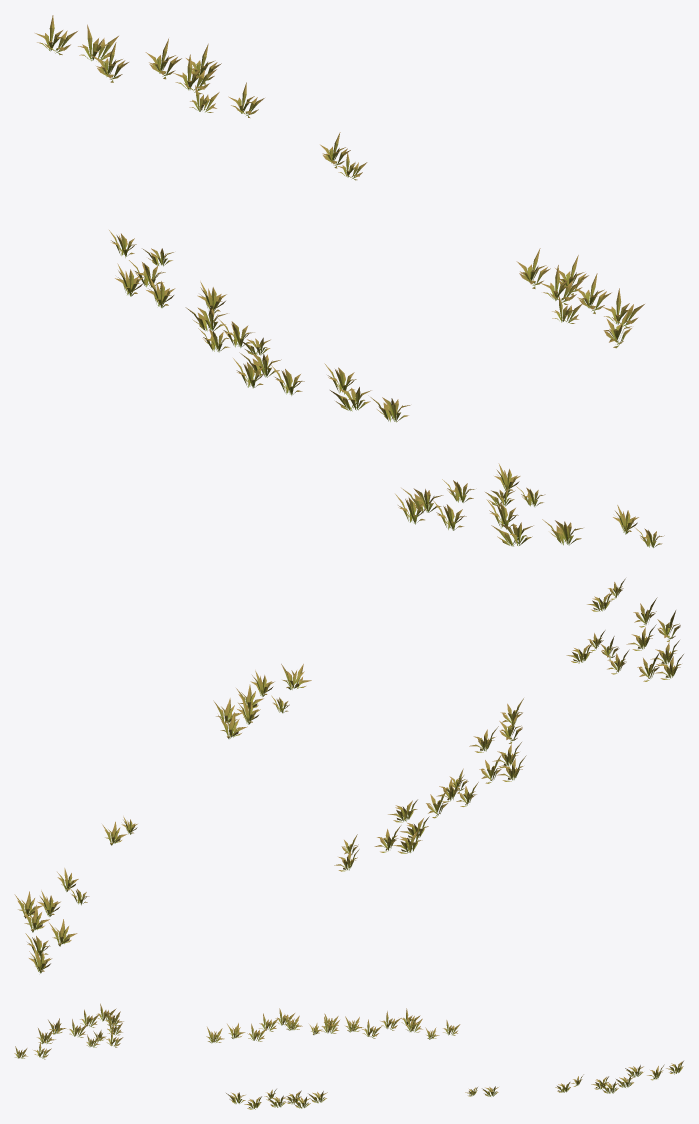
File: caodi_01.fbx
The picture shows the model from 3 angles, top to bottom: view 1: azimuth 30°, elevation 25°; view 2: azimuth 150°, elevation 25°; view 3: azimuth 270°, elevation 25°; orthographic projection. The views are drawn at different scales.
Parts seen in each view (by area): view 1: caodi_01; view 2: caodi_01; view 3: caodi_01.
Part boxes in pixels (x1=…): caodi_01: x1=35, y1=15, x2=664, y2=547; caodi_01: x1=14, y1=578, x2=683, y2=973; caodi_01: x1=14, y1=1003, x2=683, y2=1109.
Size of the model in its own units: 1058 by 80.39 by 3163.
Materials: 1 (1 with a texture image).
